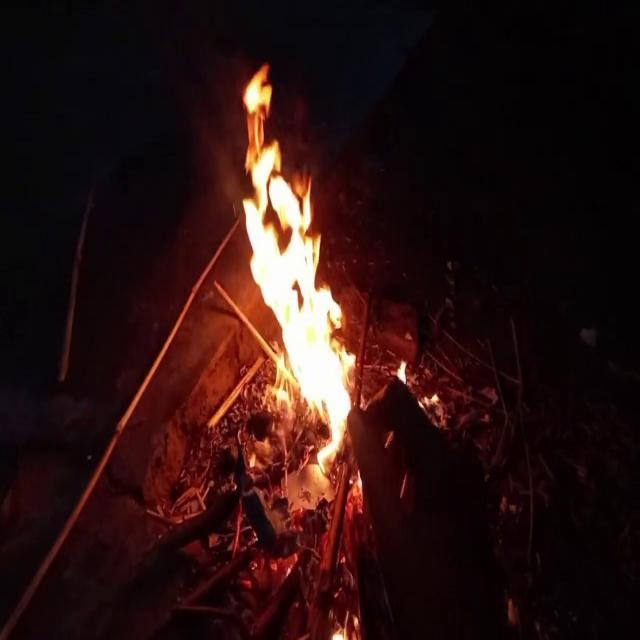Fire: (222, 62, 372, 497)
